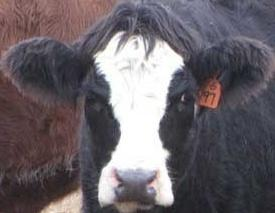muzzles: (93, 164, 175, 212)
